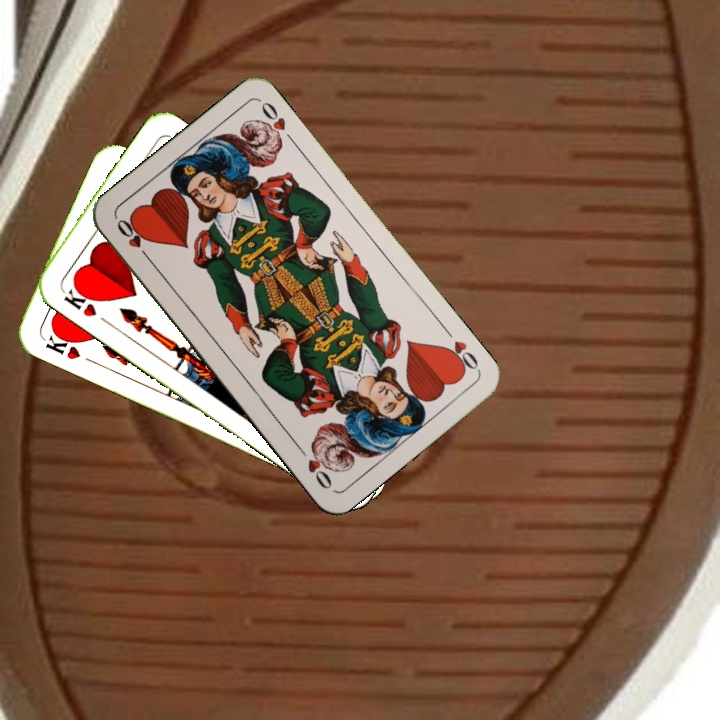HK: (57, 280, 101, 320), (38, 326, 83, 363)
HO: (438, 323, 482, 376), (112, 214, 154, 265)
